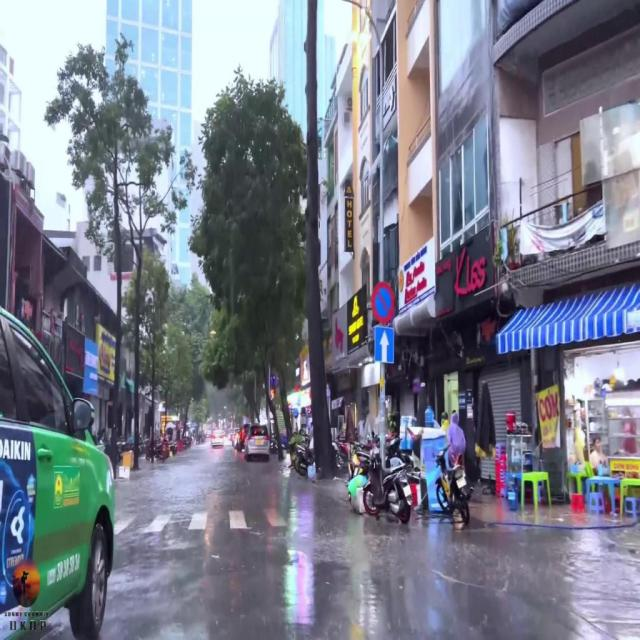cam_do_xe: (371, 283, 395, 322)
duong_mot_chieu: (375, 328, 394, 363)
